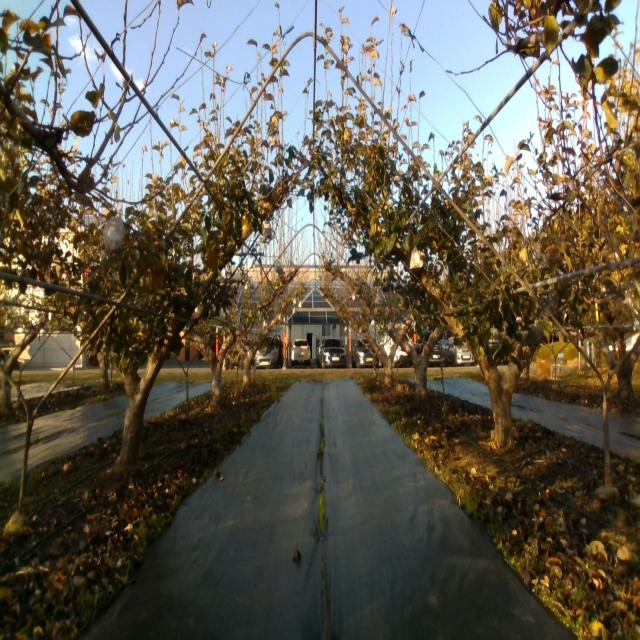pearbags: (104, 214, 125, 256), (409, 246, 423, 270), (262, 219, 272, 240)
